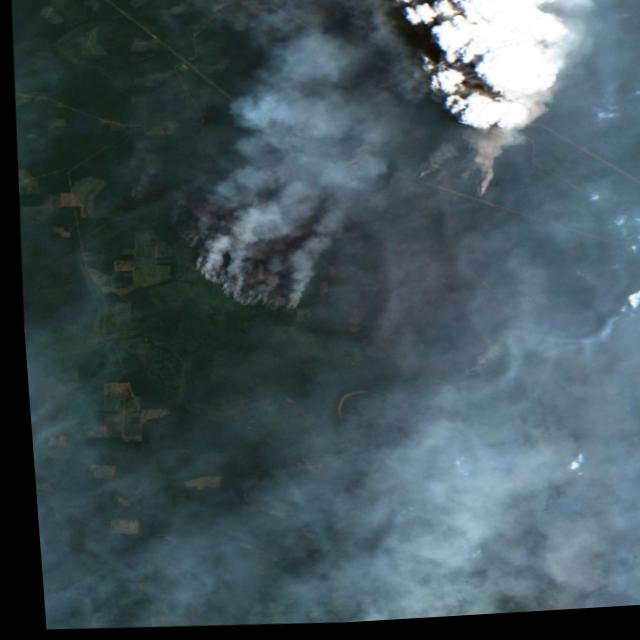fire: (172, 110, 519, 333)
